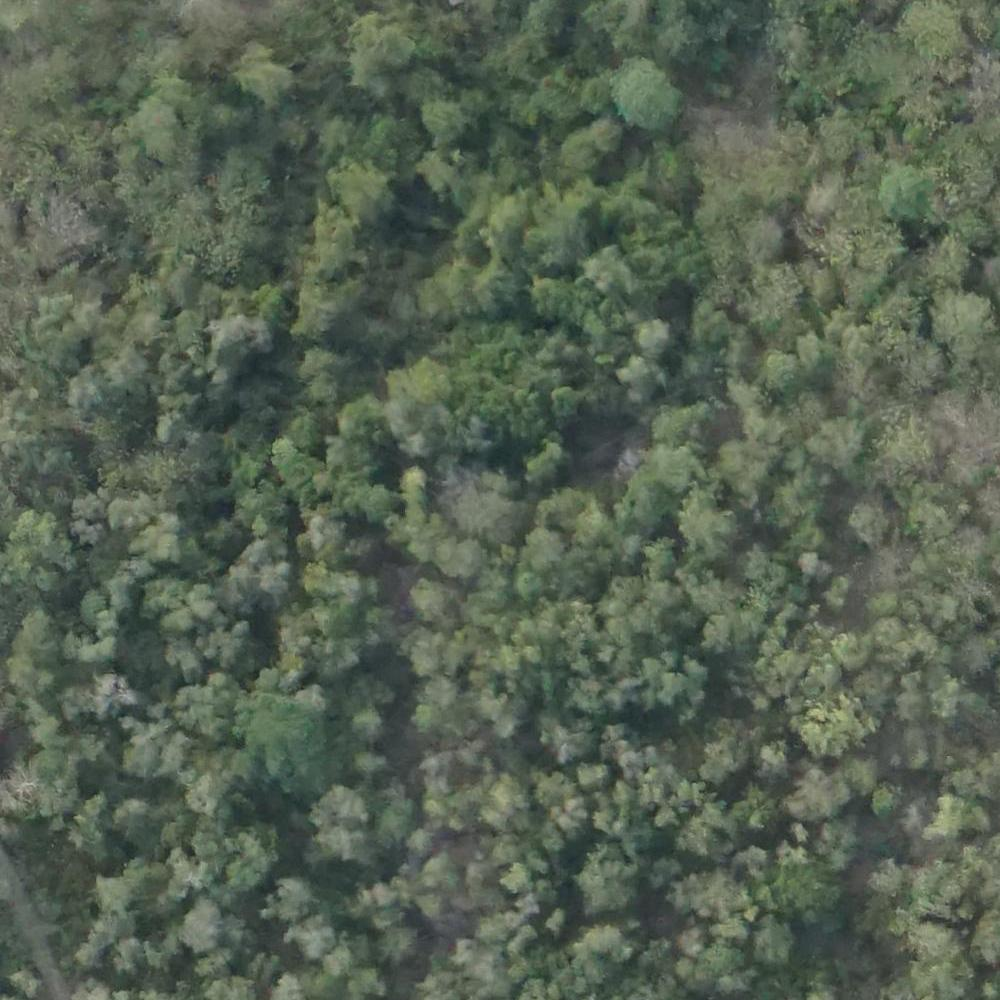tree: (240, 674, 316, 762), (336, 16, 418, 88), (609, 53, 685, 129), (870, 157, 937, 233), (223, 38, 291, 108), (639, 650, 705, 718), (800, 694, 869, 759), (381, 392, 447, 455), (312, 787, 367, 857), (323, 153, 386, 213), (578, 856, 636, 918), (934, 284, 988, 348), (648, 144, 705, 204), (457, 483, 521, 536), (482, 196, 536, 258), (887, 421, 945, 473), (649, 449, 704, 500), (792, 770, 846, 821), (813, 420, 864, 471), (131, 517, 186, 564), (681, 498, 733, 545), (843, 499, 893, 546), (181, 683, 226, 731), (412, 576, 457, 623), (767, 348, 809, 398), (86, 668, 127, 718), (137, 101, 178, 150), (699, 873, 743, 918), (216, 151, 263, 193), (177, 906, 222, 949), (759, 917, 802, 962), (273, 443, 318, 486), (930, 796, 973, 840), (565, 122, 604, 170), (263, 878, 307, 920), (418, 103, 474, 135), (521, 520, 559, 560), (743, 217, 780, 258), (529, 3, 568, 41), (839, 627, 873, 670), (588, 251, 627, 288), (211, 630, 251, 666), (248, 282, 287, 318), (305, 521, 344, 556), (702, 743, 742, 777), (631, 316, 672, 349), (796, 332, 834, 367), (379, 800, 414, 836), (416, 635, 449, 673), (70, 368, 100, 409), (648, 579, 689, 608), (300, 349, 340, 378), (409, 704, 440, 739), (424, 867, 461, 896), (548, 389, 583, 419), (158, 410, 187, 446), (409, 830, 440, 863), (490, 715, 524, 743), (310, 375, 339, 407), (505, 862, 528, 889)
